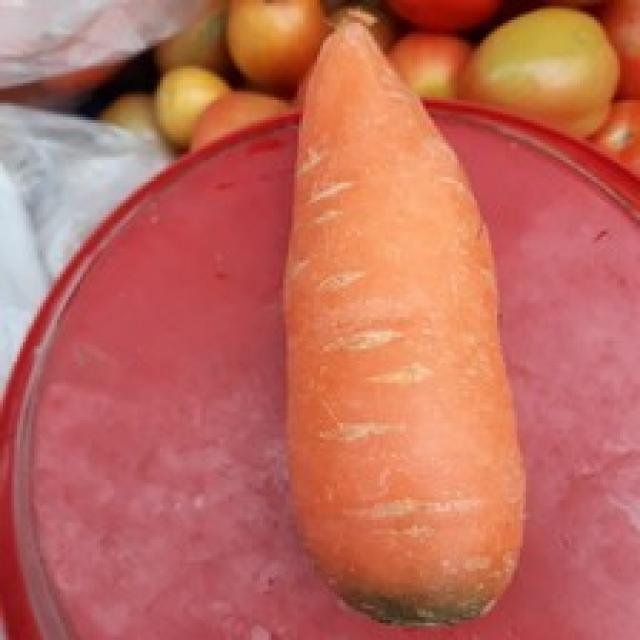carrot: (283, 18, 525, 628)
